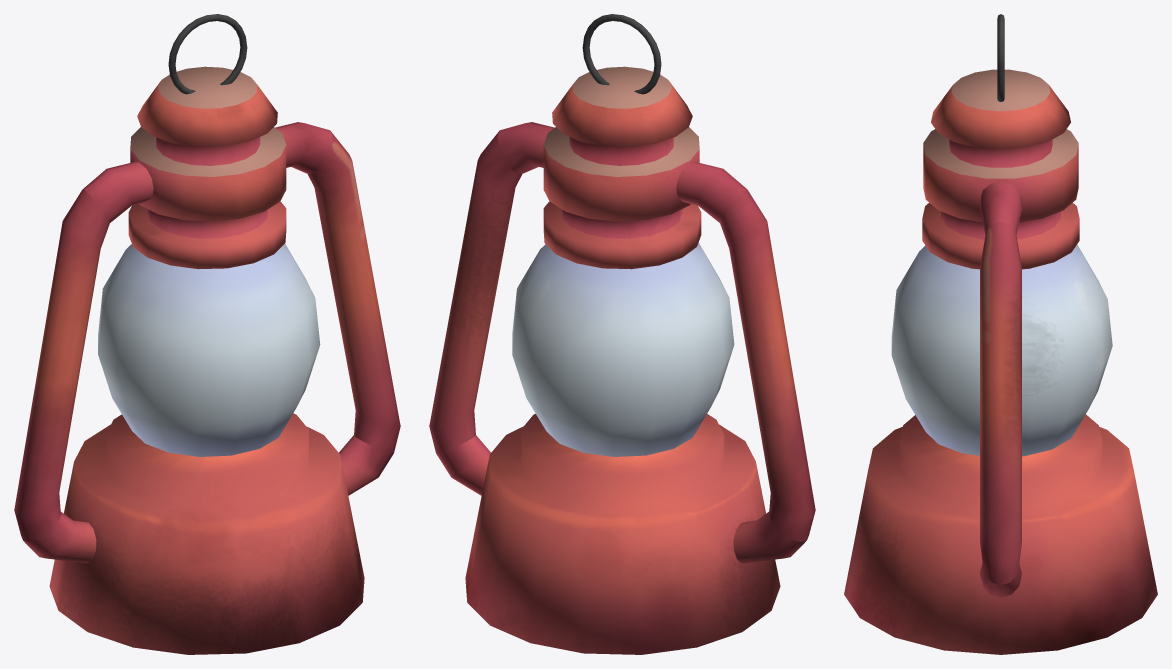
The model's file is lamp.fbx.
3 renders of one model, left to right at view 1: azimuth 30°, elevation 25°; view 2: azimuth 150°, elevation 25°; view 3: azimuth 270°, elevation 25°, orthographic.
Visible parts, largest first — view 1: Sphere002; view 2: Sphere002; view 3: Sphere002.
Part boxes in pixels (x1,y1,x2,y2): Sphere002: [14, 14, 400, 654]; Sphere002: [429, 14, 815, 654]; Sphere002: [844, 14, 1157, 654].
Bounding box in the file's own units: 20.92 × 30.07 × 15.
1 material, 1 textured.
